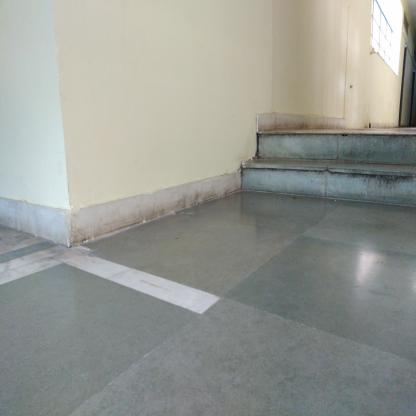stairs: (256, 127, 416, 206)
